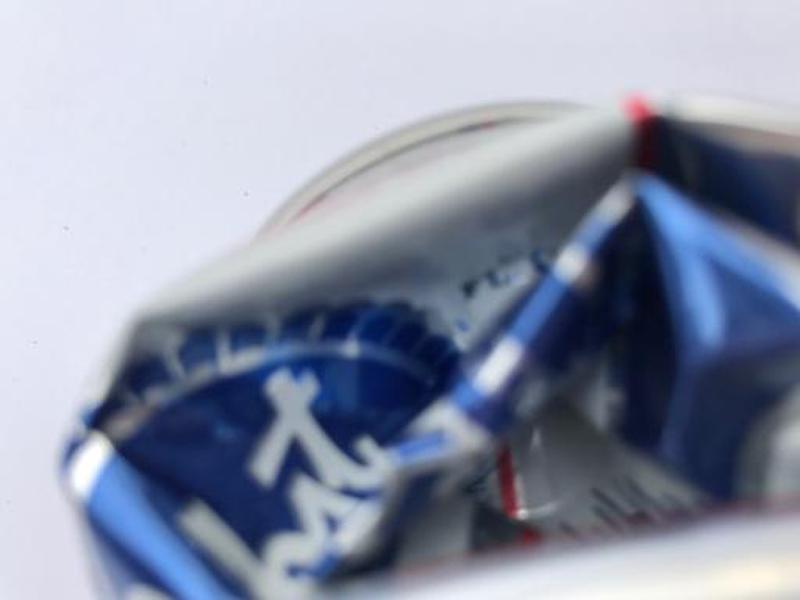can: (49, 77, 800, 600)
